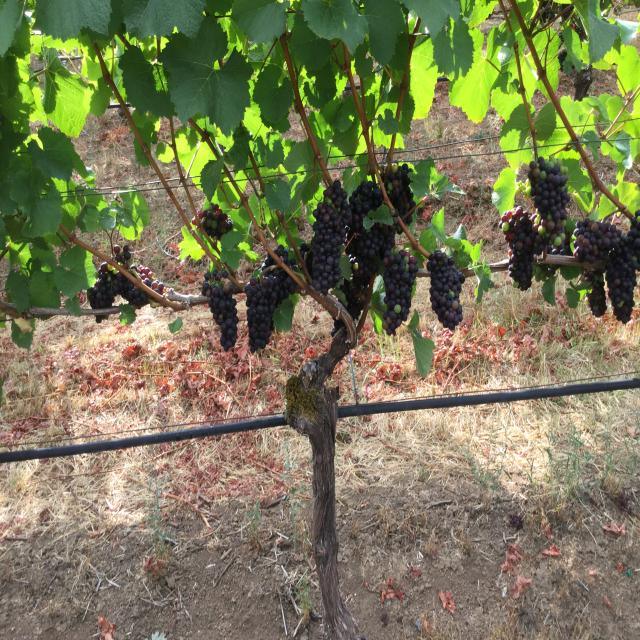grapes: (342, 180, 398, 318), (245, 255, 298, 353), (311, 180, 350, 295), (605, 210, 640, 323), (528, 157, 570, 245), (500, 207, 542, 290), (382, 248, 419, 335), (426, 250, 465, 330), (201, 270, 239, 352), (88, 262, 148, 308), (114, 245, 165, 293), (574, 218, 620, 262), (385, 163, 415, 218), (198, 203, 232, 240), (582, 267, 606, 317), (275, 245, 296, 268)
